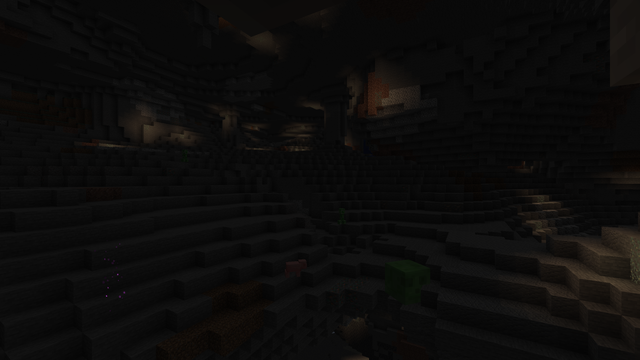cochons: (284, 259, 302, 278)
creepers: (338, 207, 345, 224), (181, 148, 188, 161)
slimes: (386, 257, 425, 305)
